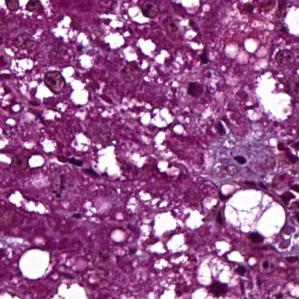ballooning: (224, 186, 289, 246), (189, 255, 248, 299)
